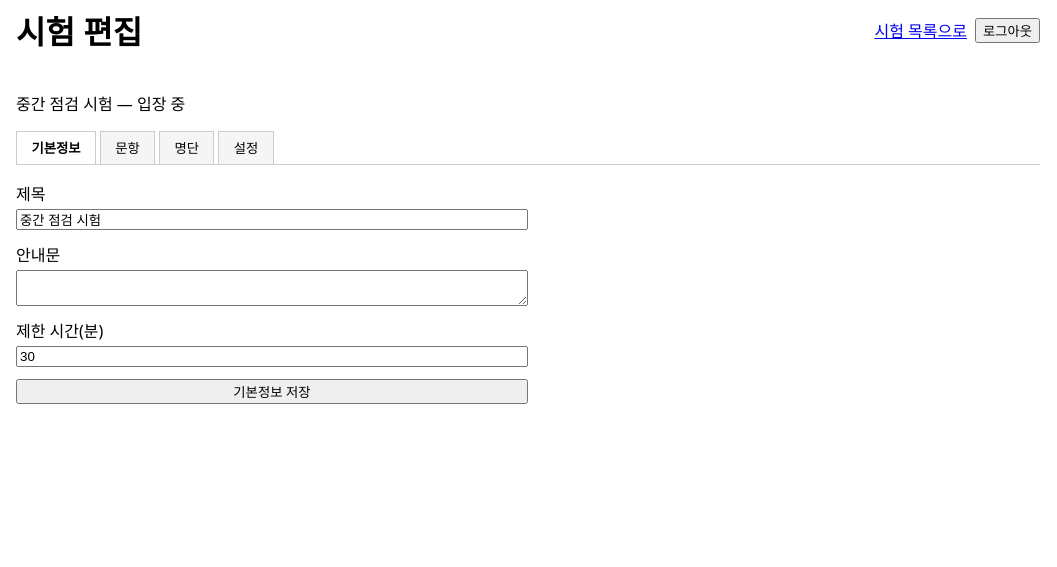
Test: 시험 편집(S-03) › DRAFT가 아닌 시험은 문항·명단 저장이 비활성이다
Click the tab "문항" at [127, 147], box left=100, top=131, right=155, bottom=164
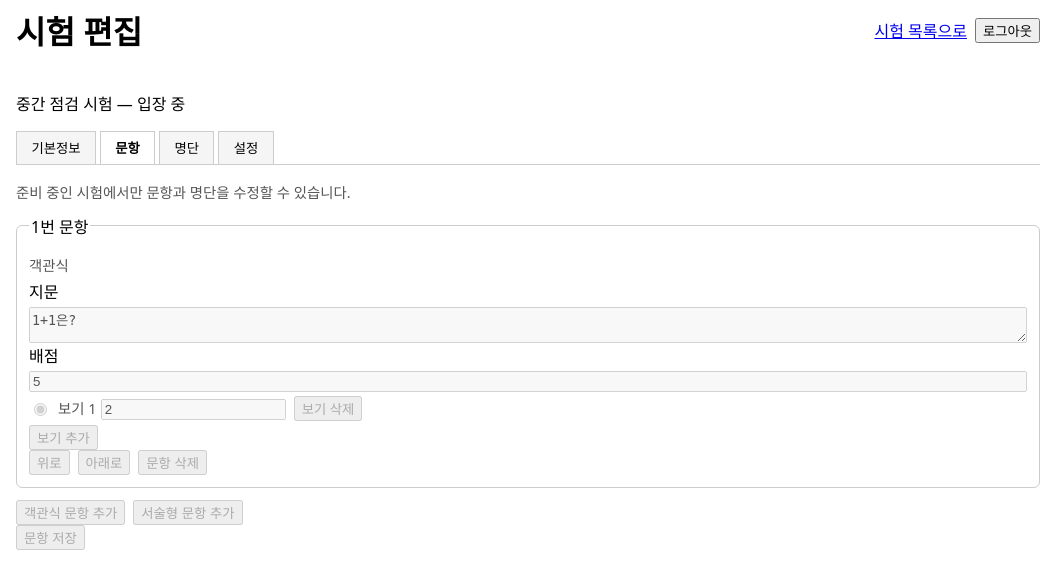
Result: the button "문항 저장" is disabled at left=16, top=525, right=85, bottom=550
Result: the text "준비 중인 시험에서만 문항과 명단을 수정할 수 있습니다." is shown at left=16, top=183, right=351, bottom=202
